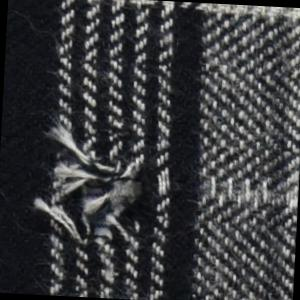Damage: (24, 107, 160, 266), (187, 167, 300, 220)
